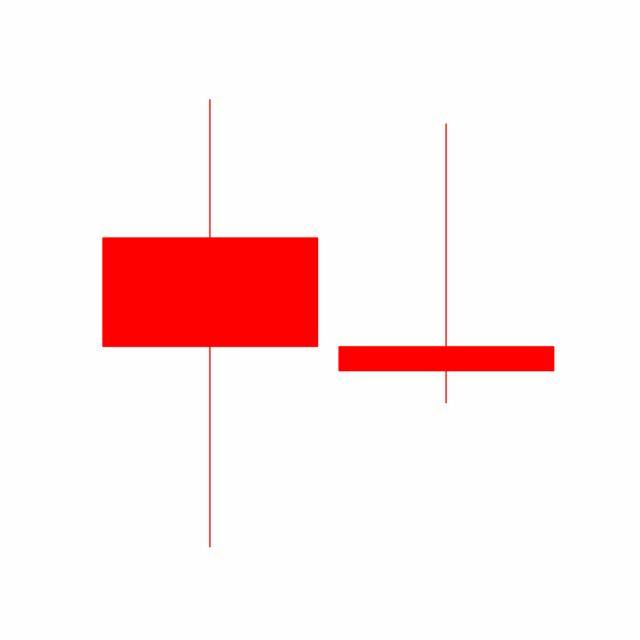Spinning Top: (328, 121, 566, 407)
